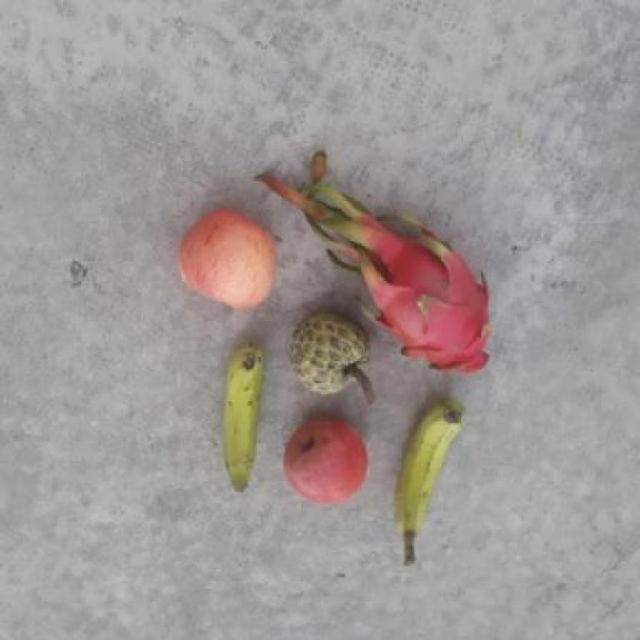apple: (176, 210, 278, 313), (280, 414, 372, 508)
banana: (212, 338, 272, 497), (397, 398, 465, 538)
dragon fruit: (375, 229, 494, 376)
sugar apple: (287, 303, 371, 394)
